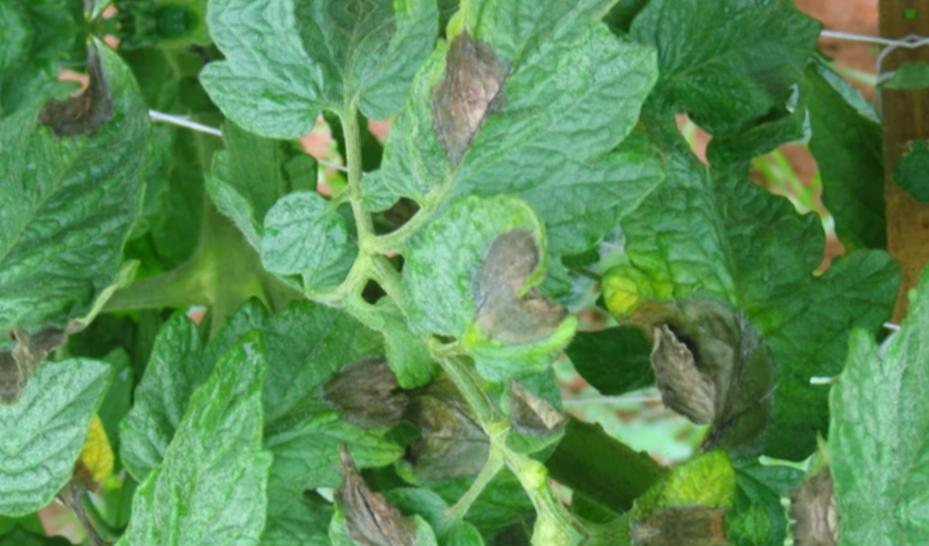Tomato leaf late blight: (606, 114, 921, 499), (364, 0, 677, 274), (391, 188, 581, 374), (616, 432, 748, 535), (330, 451, 457, 546)
